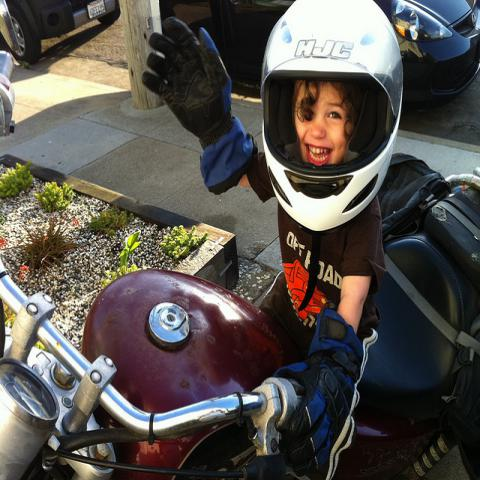car: (158, 1, 478, 111), (0, 0, 122, 64)
motorcycle: (1, 168, 479, 476)
